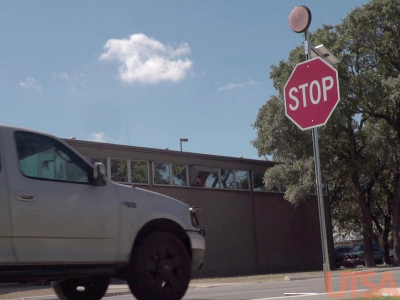stop: (286, 69, 337, 120)
